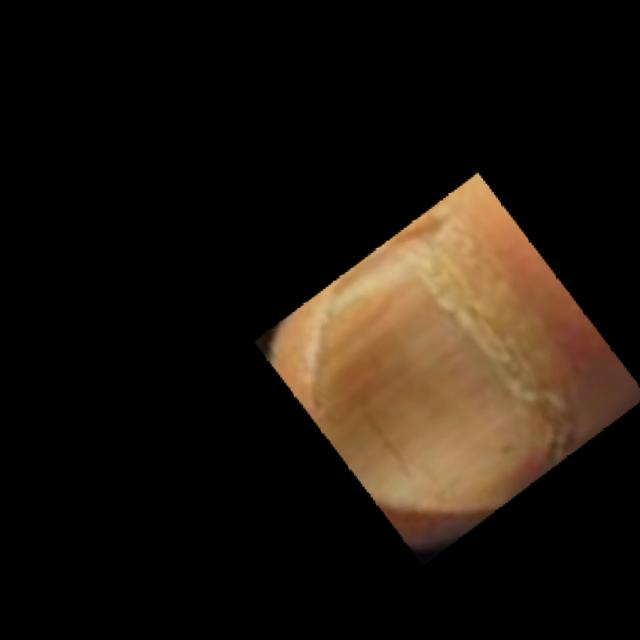Nail: (315, 244, 553, 510)
